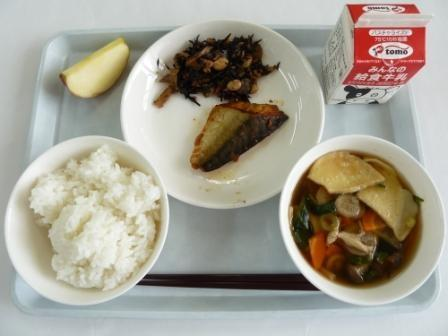Apple: (50, 34, 137, 101)
Fish: (188, 91, 291, 175)
Milk: (317, 2, 436, 110)
Rice: (7, 148, 174, 303)
Soups: (291, 145, 435, 289)
salad with sauce: (149, 27, 274, 100)
